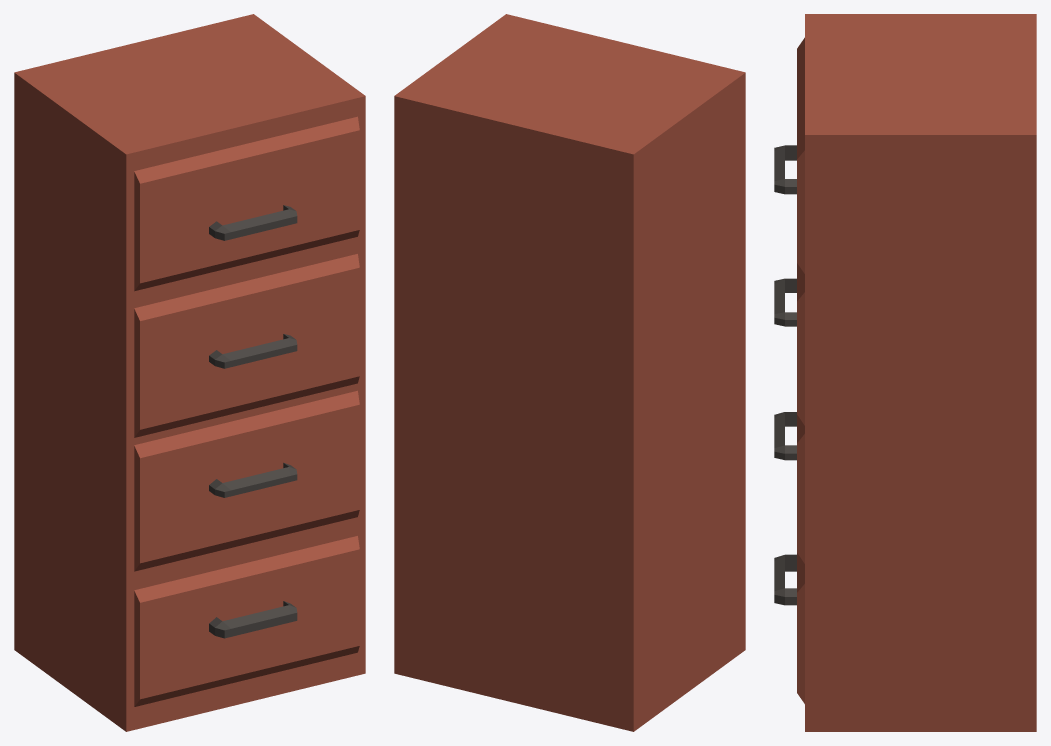
The model's file is GarageTallDrawers.fbx.
3 views of the same model, side by side, from view 1: azimuth 30°, elevation 25°; view 2: azimuth 150°, elevation 25°; view 3: azimuth 270°, elevation 25° (orthographic). The views are drawn at different scales.
Visible parts, largest first — view 1: pCube2; view 2: pCube2; view 3: pCube2.
Part boxes in pixels (box(x1,y1,x2,y2)): pCube2: box(14, 14, 365, 731); pCube2: box(394, 14, 745, 731); pCube2: box(774, 14, 1036, 731).
Size of the model in its own units: 42.55 by 98.02 by 39.07.
